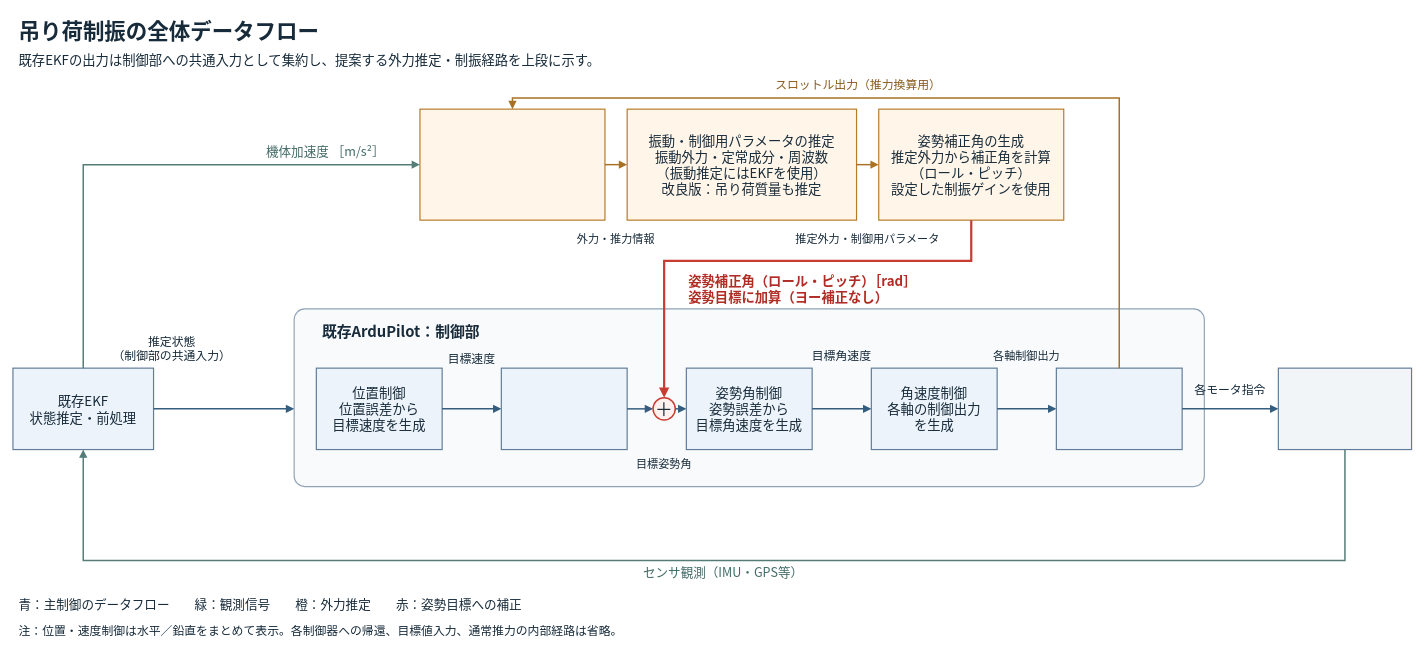
This 1425x653 diagram has some shape labels left out. Here are the shapes that lost their labels. From the top down, the centre of each, then its label:
the point at 512,164: 外力の算出 機体加速度と推力指令から 機体に作用する外力を算出
the point at 563,408: 速度制御 目標加速度・ 姿勢目標を生成
the point at 1118,408: モータ制御 制御配分・ 出力変換
the point at 1344,408: UAV 機体・索 吊り荷
